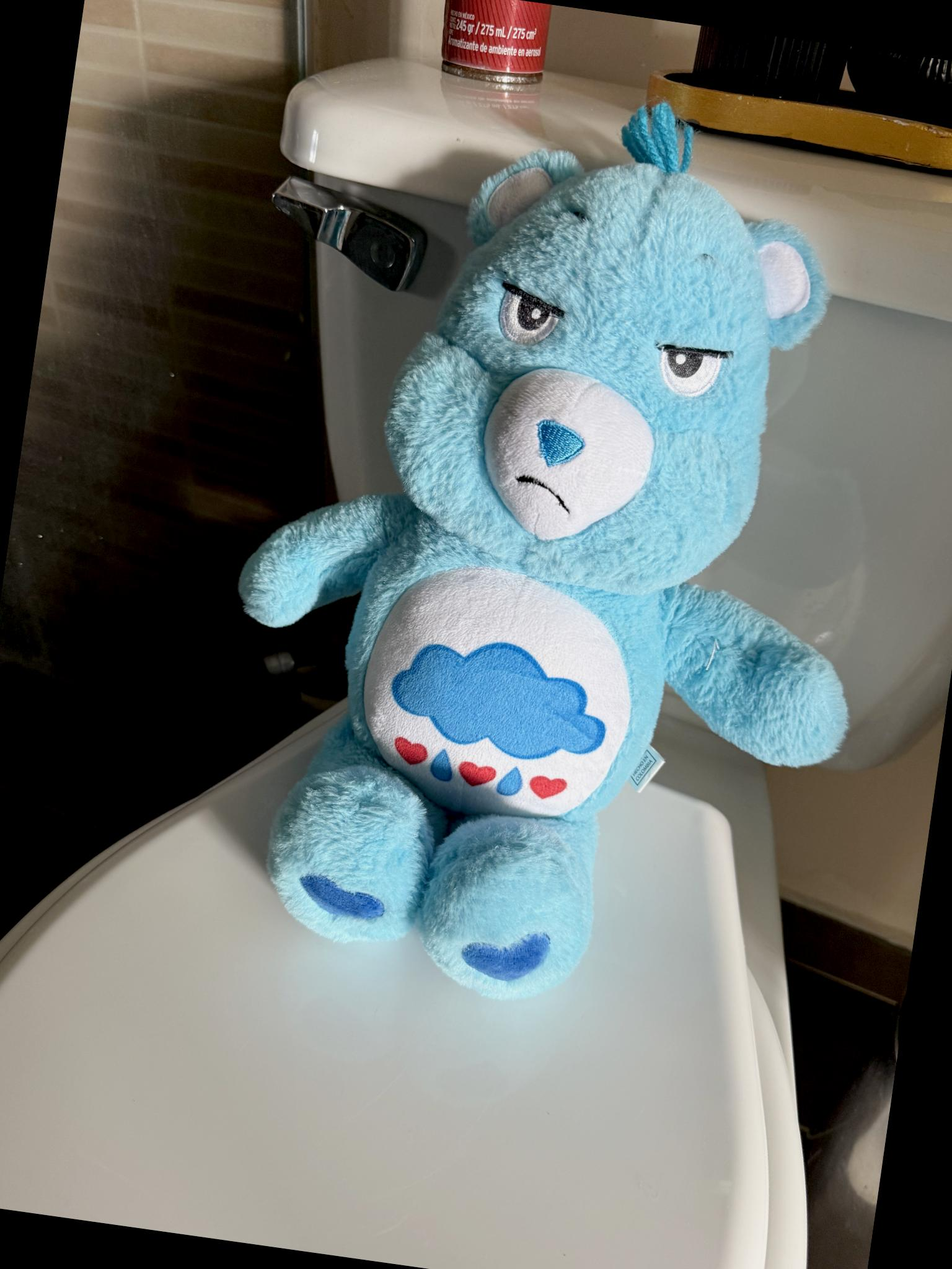peluche_Juan Jose: (186, 50, 931, 1043)
